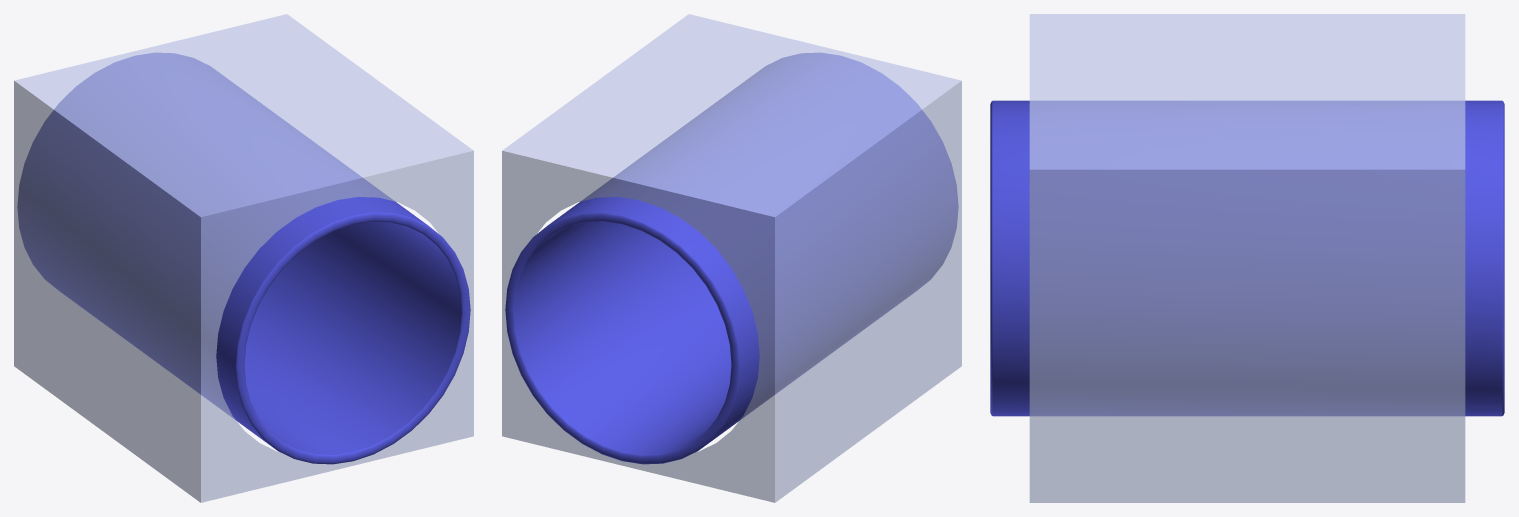
File: werkblok3.glb
3 views of the same model, side by side, from view 1: azimuth 30°, elevation 25°; view 2: azimuth 150°, elevation 25°; view 3: azimuth 270°, elevation 25° (orthographic). The views are drawn at different scales.
Parts seen in each view (by area): view 1: Cube, Tube; view 2: Cube, Tube; view 3: Cube, Tube.
Boxes of the visible parts, bbox=[...] form: Cube: bbox=[14, 14, 473, 502]; Tube: bbox=[17, 53, 470, 464]; Cube: bbox=[502, 14, 961, 502]; Tube: bbox=[505, 53, 958, 464]; Cube: bbox=[1029, 14, 1465, 502]; Tube: bbox=[990, 100, 1504, 416].
Size of the model in its own units: 0.2685 by 0.2685 by 0.3755.
